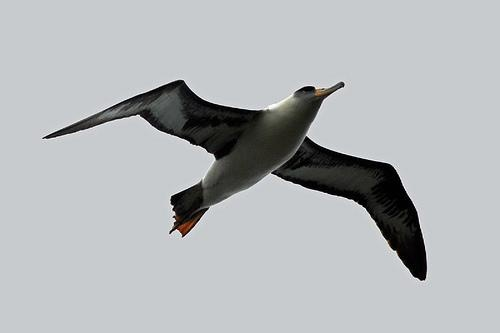bird: (39, 77, 429, 281)
